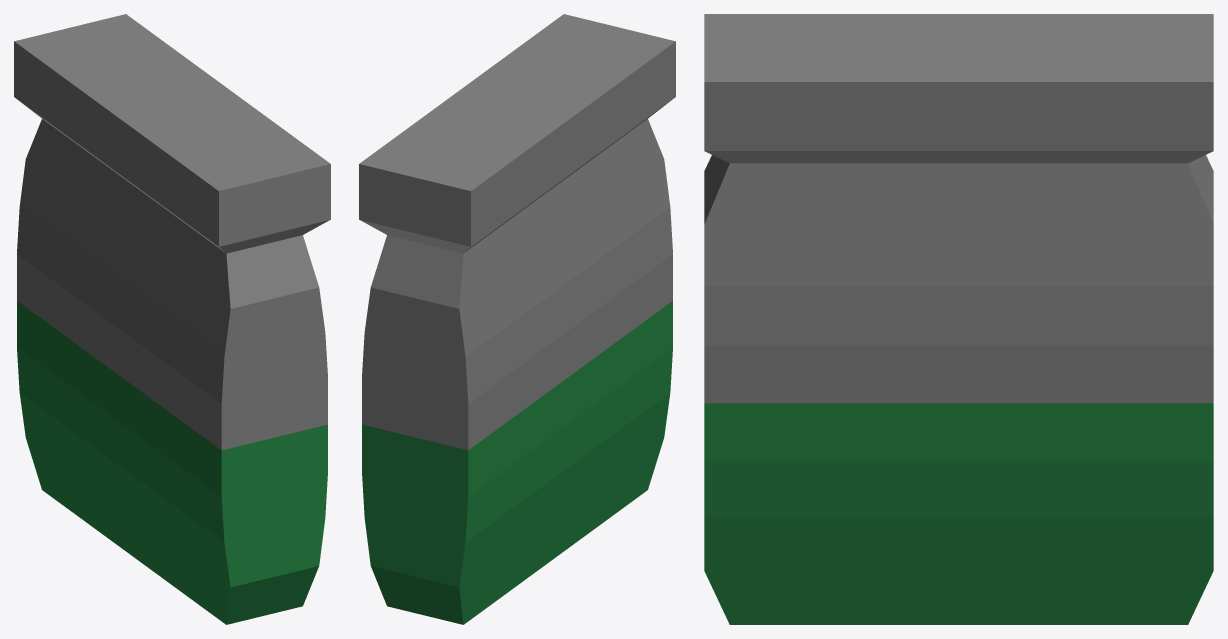
Rendered from kush_bag.fbx.
3 renders of one model, left to right at view 1: azimuth 30°, elevation 25°; view 2: azimuth 150°, elevation 25°; view 3: azimuth 270°, elevation 25°, orthographic. The views are drawn at different scales.
Parts seen in each view (by area): view 1: Cube; view 2: Cube; view 3: Cube.
Boxes of the visible parts, left/top/right/bottom form: Cube: left=14, top=14, right=330, bottom=624; Cube: left=359, top=14, right=675, bottom=624; Cube: left=704, top=14, right=1213, bottom=624.
Bounding box in the file's own units: 63.12 × 240 × 200.
